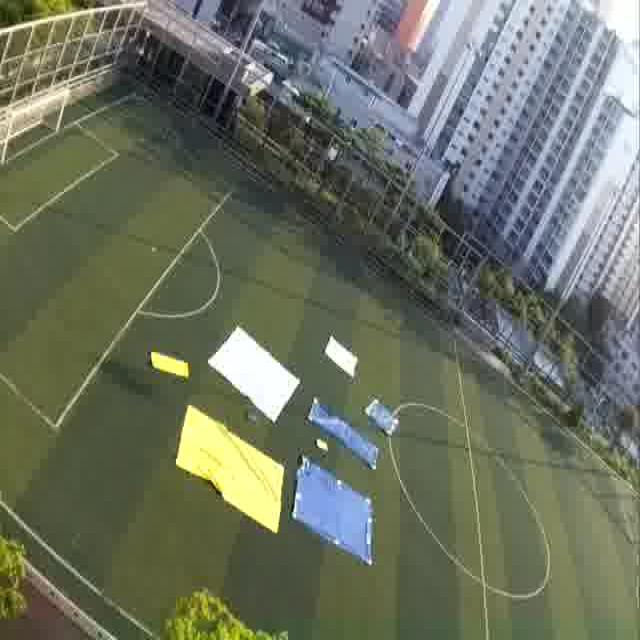danger: (300, 477, 370, 554), (364, 396, 409, 436), (311, 394, 349, 438)
safety: (224, 340, 294, 406), (321, 329, 365, 382)
warning: (180, 425, 284, 521), (152, 345, 190, 383)
